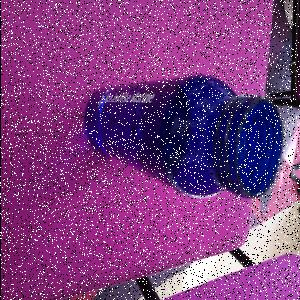Plastic-bottle: (83, 74, 286, 202)
